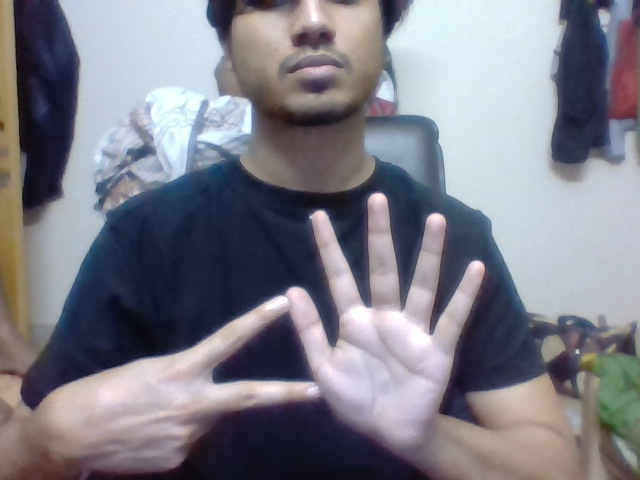N: (186, 293, 288, 418)
